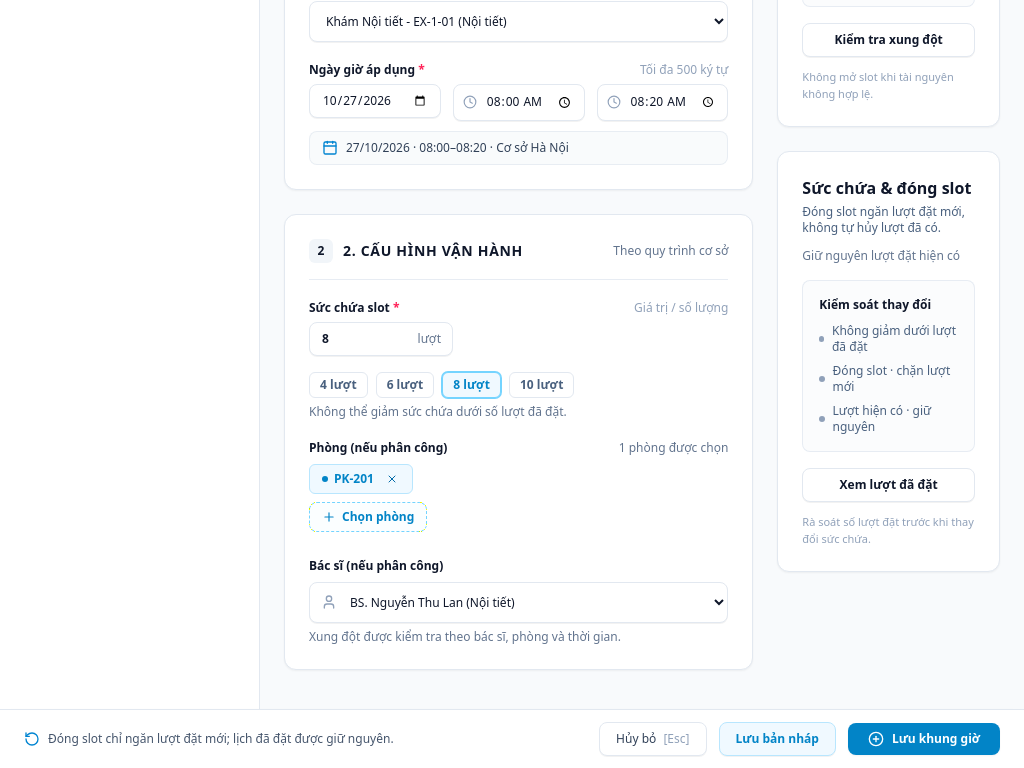
Scenario: ExaminationSlotCreatePage (SCR-ADM-SLT-02) › updates capacity when clicking quick preset buttons
The width and height of the screenshot is (1024, 768).
(page scrolled)
Expected: the number field labelled "Sức chứa slot *" holds "8", [309,322,453,356]
Click the button "10 lượt": (542, 385) [509,372,574,398]
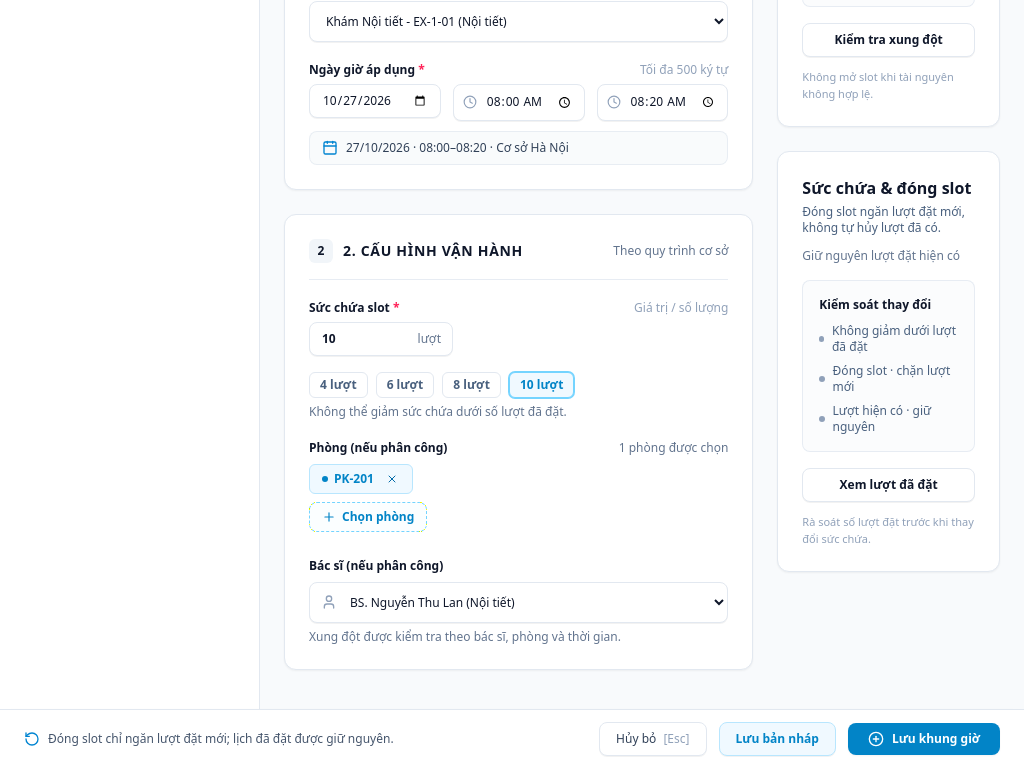
Expected: the number field labelled "Sức chứa slot *" holds "10", [309,322,453,356]
